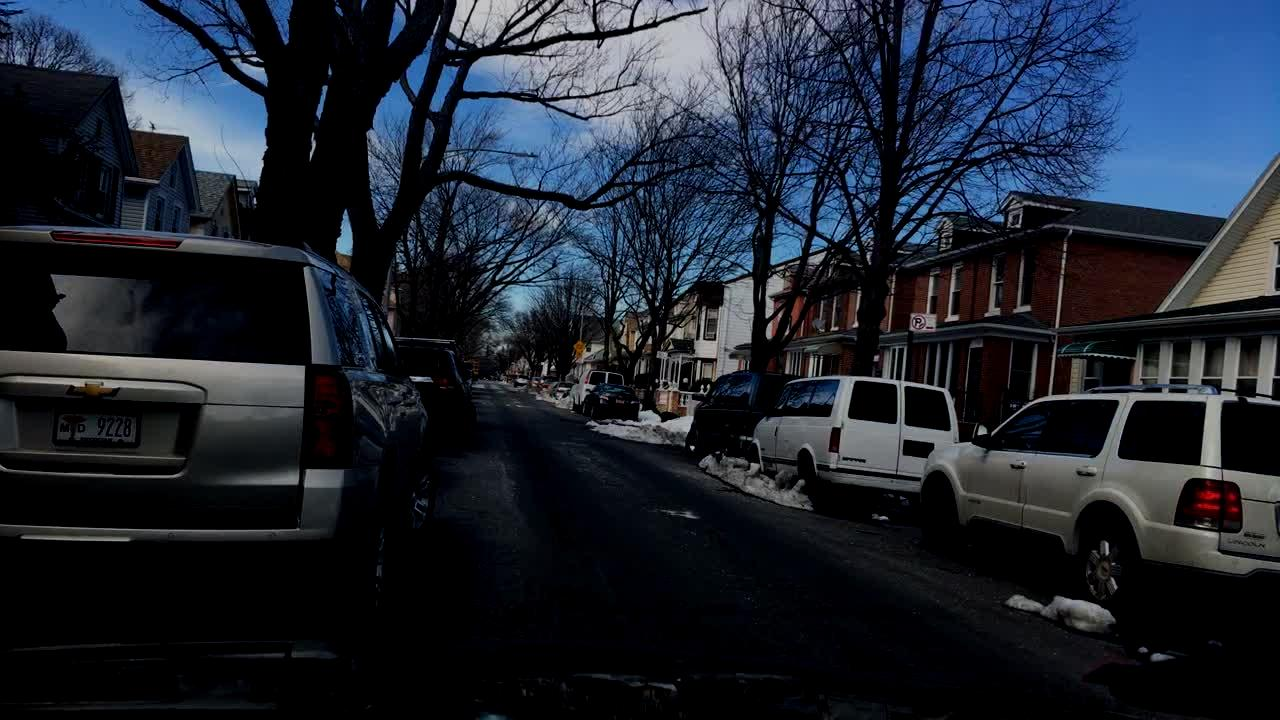chevrolet: (65, 369, 124, 404)
